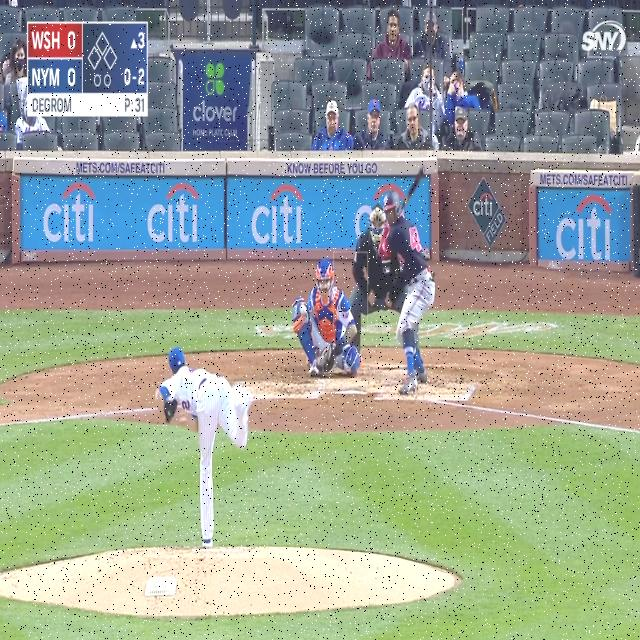baseball: (299, 304, 307, 314)
